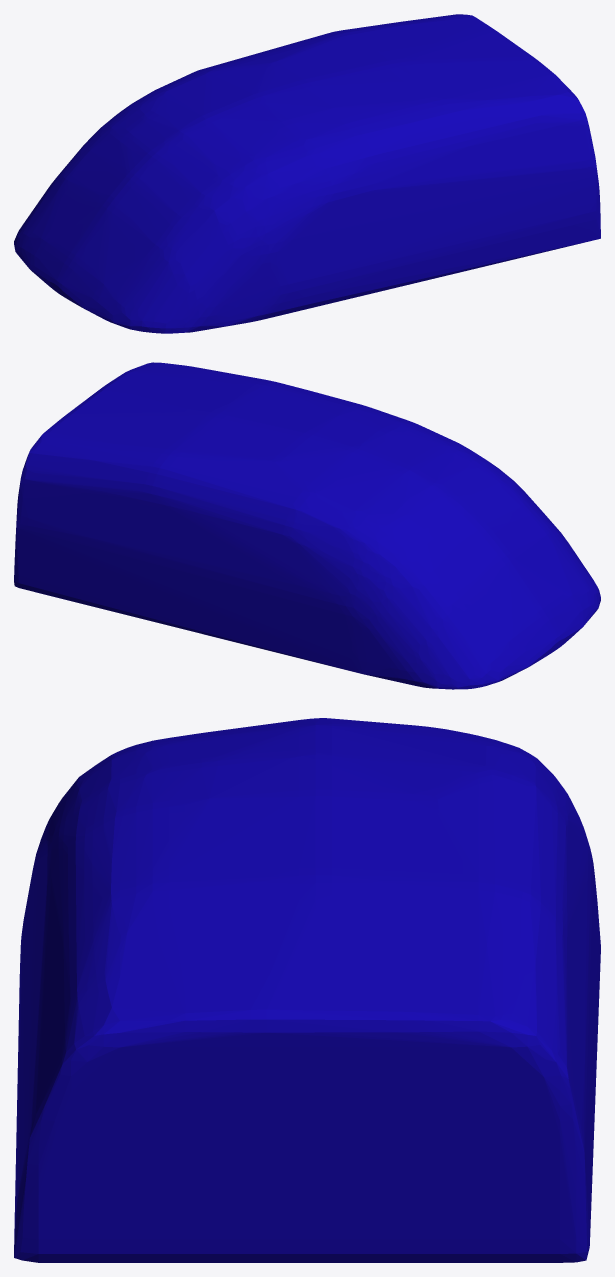
Rendered from left-shin-0_part_5.obj.
3 renders of one model, top to bottom at view 1: azimuth 30°, elevation 25°; view 2: azimuth 150°, elevation 25°; view 3: azimuth 270°, elevation 25°, orthographic. The views are drawn at different scales.
Size of the model in its own units: 0.1062 by 0.033 by 0.0629.
